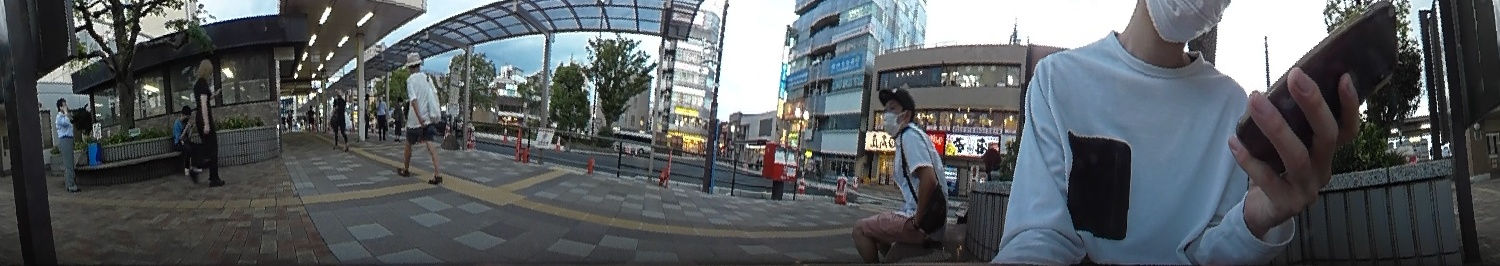difficult_person: (952, 147, 1010, 225), (324, 84, 351, 156), (372, 90, 389, 140), (390, 93, 405, 139), (360, 90, 371, 138), (302, 101, 315, 133), (285, 106, 295, 133)
person: (845, 79, 949, 262), (192, 53, 227, 189), (48, 95, 85, 189), (171, 102, 201, 176)
